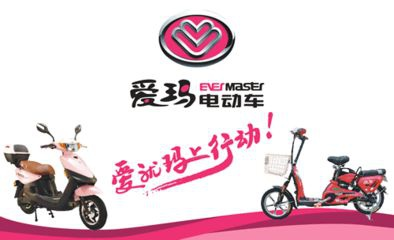non-vehicle: (260, 126, 386, 221), (2, 123, 109, 231)
